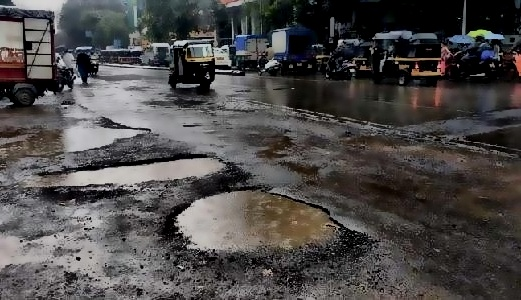pothole: (166, 183, 350, 254), (36, 152, 229, 188), (1, 123, 153, 160)
